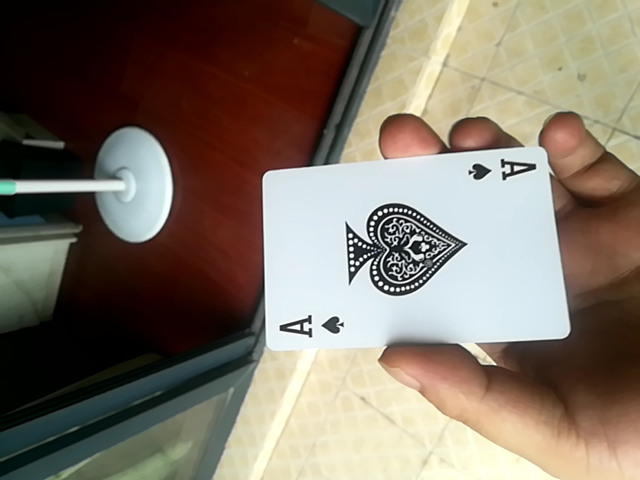ht a: (256, 140, 567, 355)
